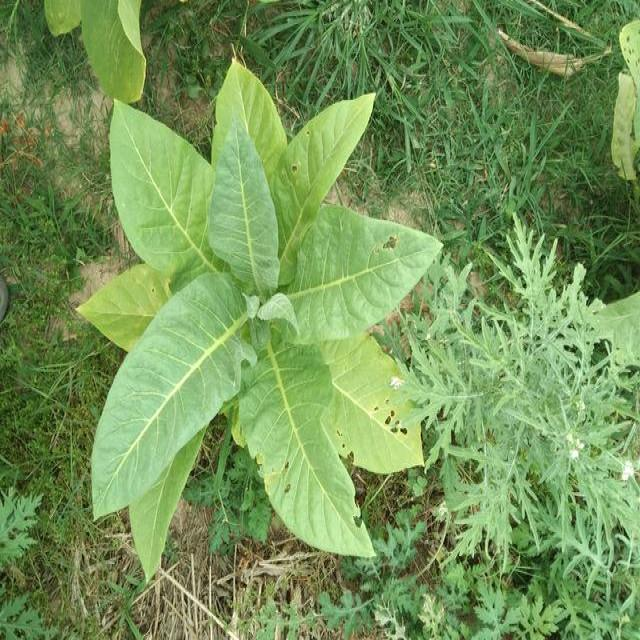crop: (78, 45, 442, 584)
